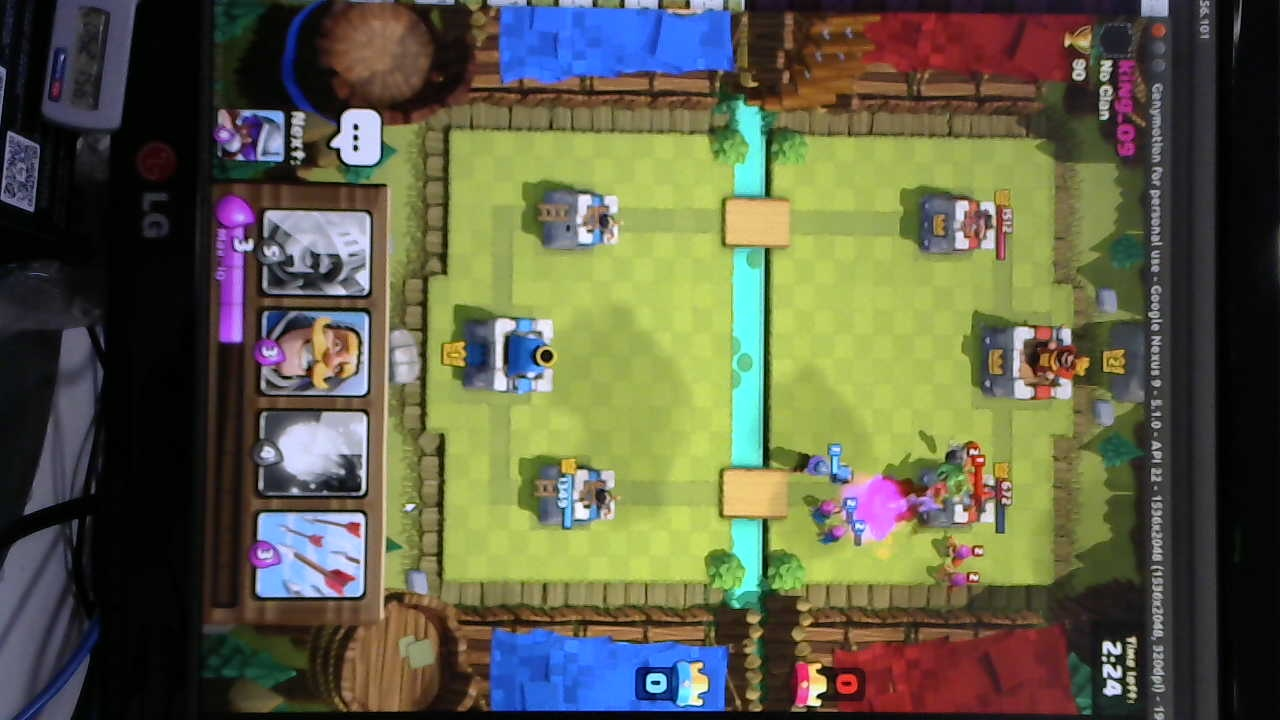archers: (808, 496, 861, 552), (940, 534, 984, 591)
arena: (535, 463, 619, 528), (540, 193, 624, 251)
bomb: (944, 439, 985, 470), (823, 460, 859, 490)
dragon: (932, 463, 986, 505)
earena: (922, 194, 1002, 259), (924, 472, 997, 530)
eking: (975, 318, 1084, 404)
king: (462, 314, 558, 396)
musketeer: (788, 449, 836, 480)
